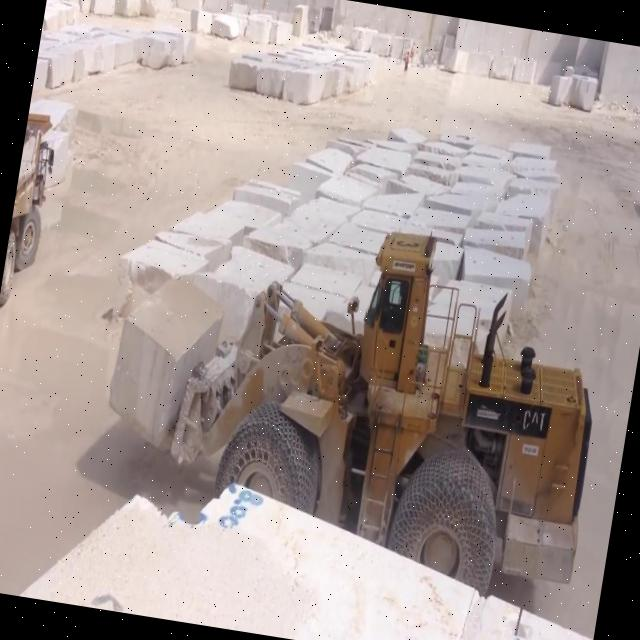Dump Truck: (0, 108, 64, 318)
Loader: (149, 178, 628, 610)
